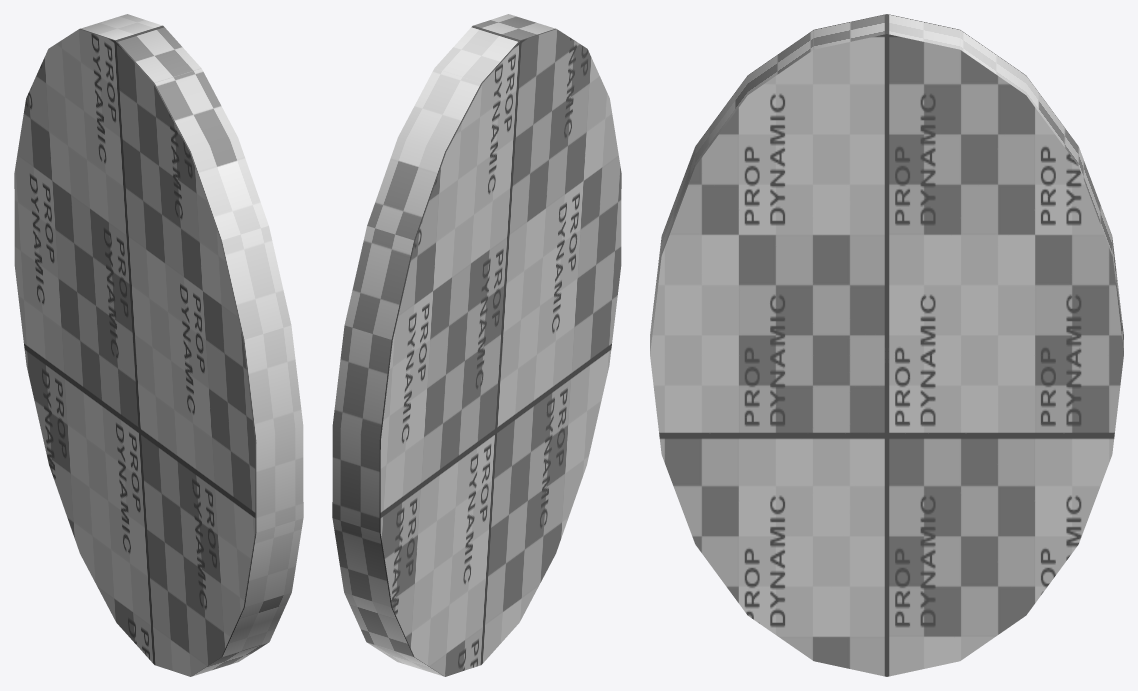
File: Coin(Breadcrumb).fbx
3 renders of one model, left to right at view 1: azimuth 30°, elevation 25°; view 2: azimuth 150°, elevation 25°; view 3: azimuth 270°, elevation 25°, orthographic.
Parts seen in each view (by area): view 1: Coin_Breadcrumb_; view 2: Coin_Breadcrumb_; view 3: Coin_Breadcrumb_.
Part boxes in pixels (x1,y1,x2,y2): Coin_Breadcrumb_: (14, 14, 303, 676); Coin_Breadcrumb_: (332, 14, 621, 676); Coin_Breadcrumb_: (650, 14, 1123, 676).
Size of the model in its own units: 12.71 by 88.65 by 60.69.
